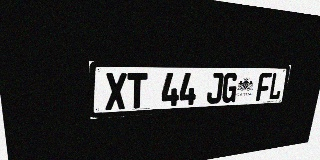4: (161, 73, 180, 107), (179, 73, 198, 106)
F: (256, 73, 272, 101)
G: (221, 73, 238, 103)
J: (206, 73, 224, 104)
L: (268, 73, 284, 100)
T: (127, 73, 147, 109)
X: (105, 73, 127, 110)
